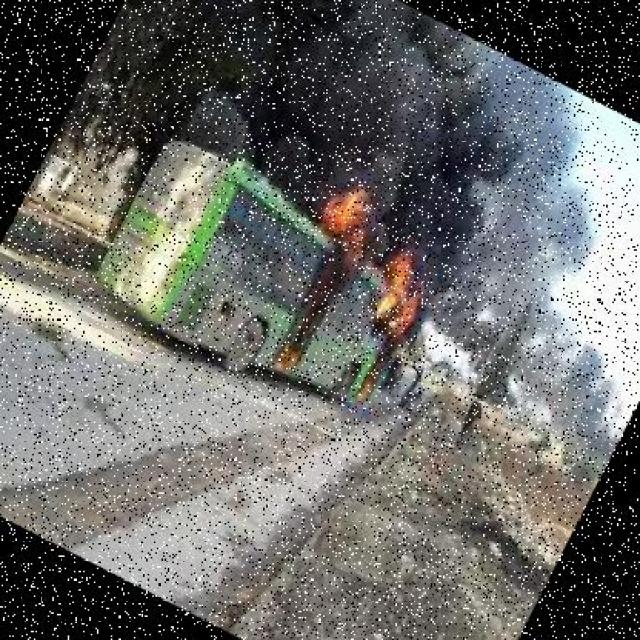fire: (236, 166, 407, 386)
